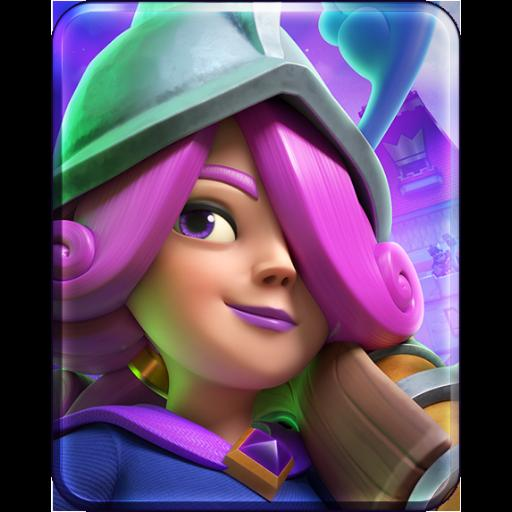musketeer-evo: (61, 14, 449, 502)
